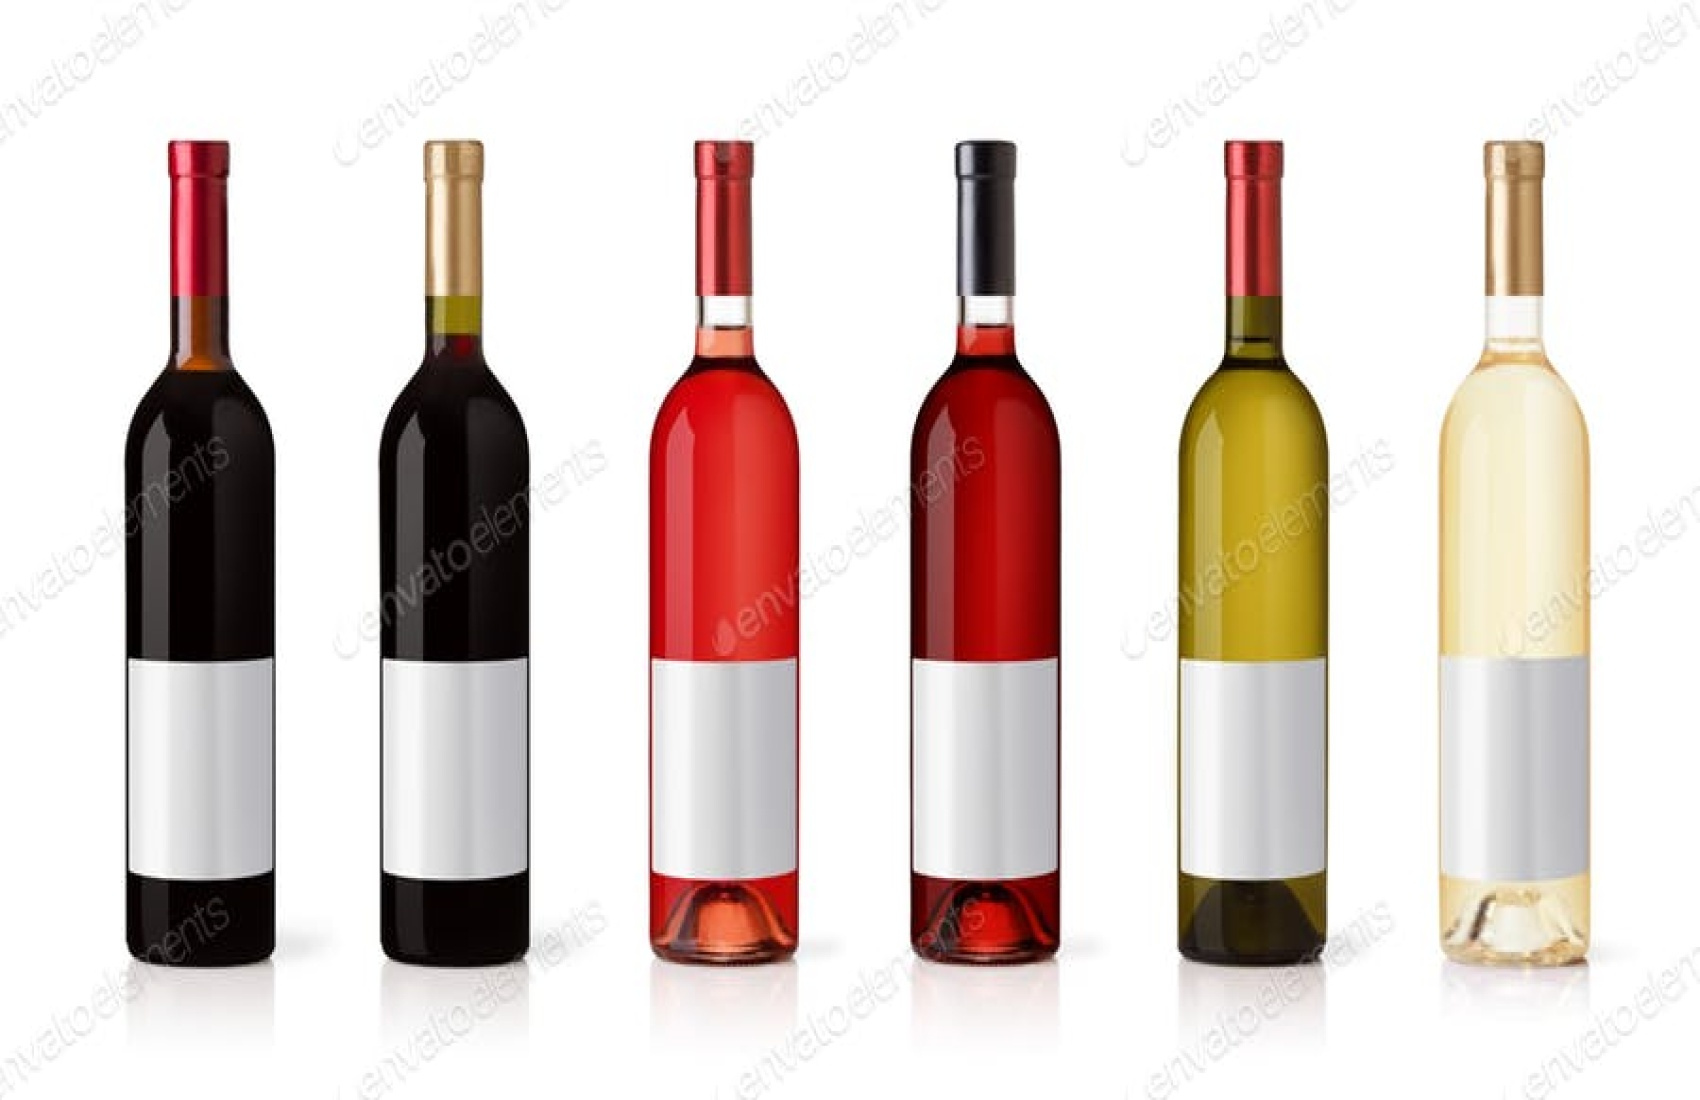wine: (367, 137, 537, 966), (644, 129, 812, 958), (901, 147, 1068, 975), (1163, 140, 1331, 967), (1431, 131, 1598, 959), (118, 147, 285, 964)
